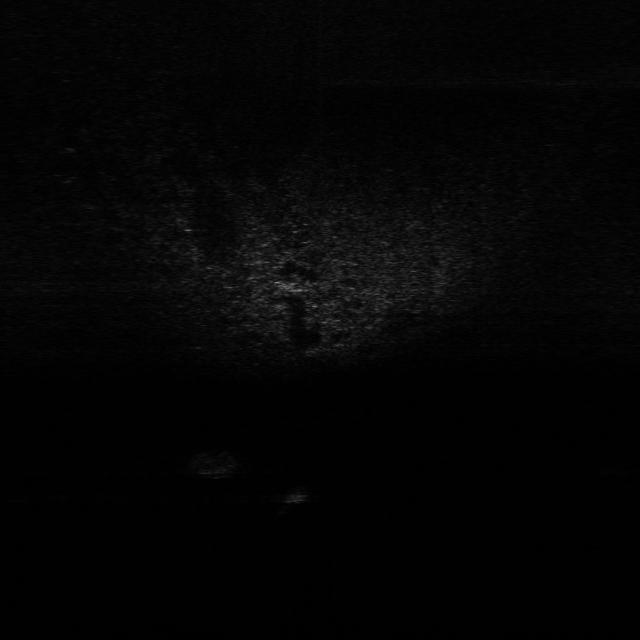circle cage: (190, 443, 246, 481)
cylinder: (280, 480, 314, 519)
